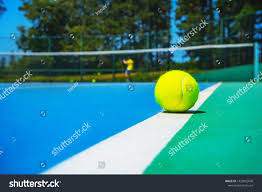tennis_ball: (154, 68, 199, 113)
